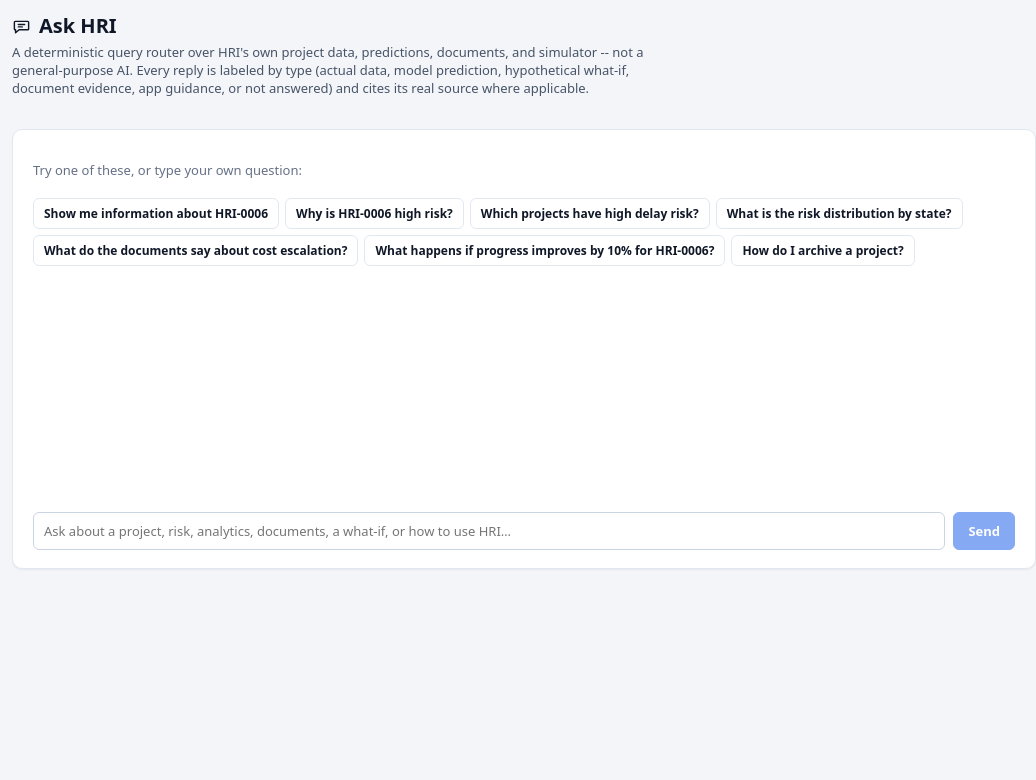
AskHRI page › renders a prediction disclaimer for a model-prediction response
This screenshot has width=1036, height=780.
Replace the text in the field named "Ask HRI" with "Why is HRI-0006 high risk?" at {"x": 489, "y": 531}, box [33,512,945,550]
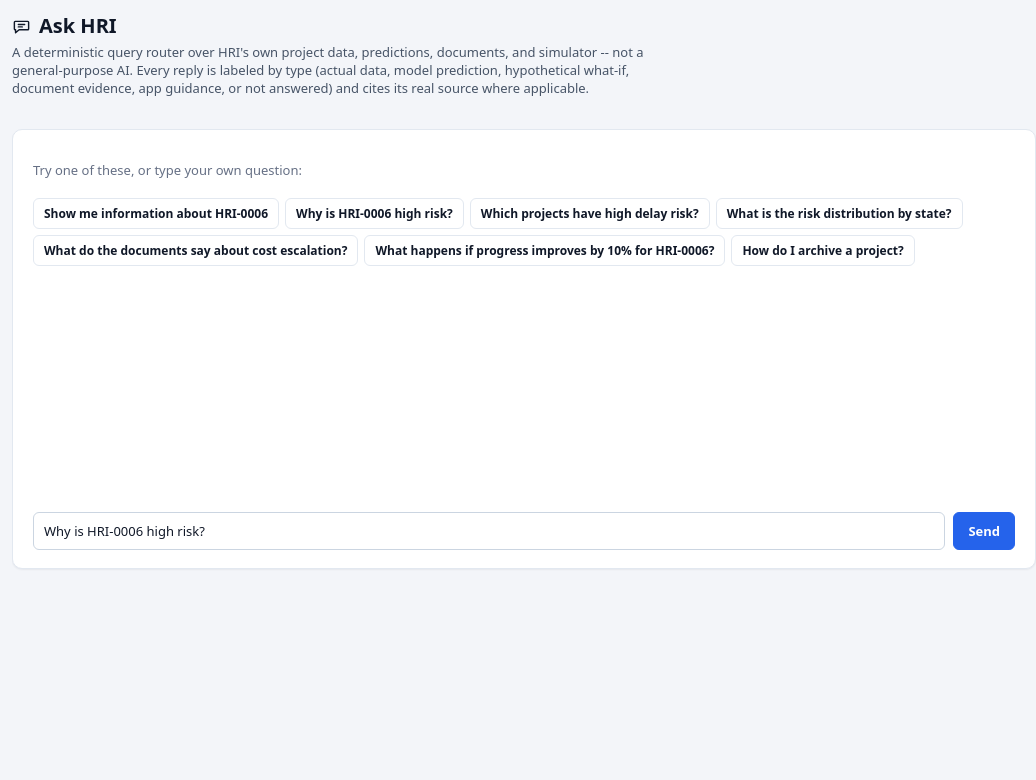
Click the button "Send" at {"x": 984, "y": 531}, box [953,512,1015,550]
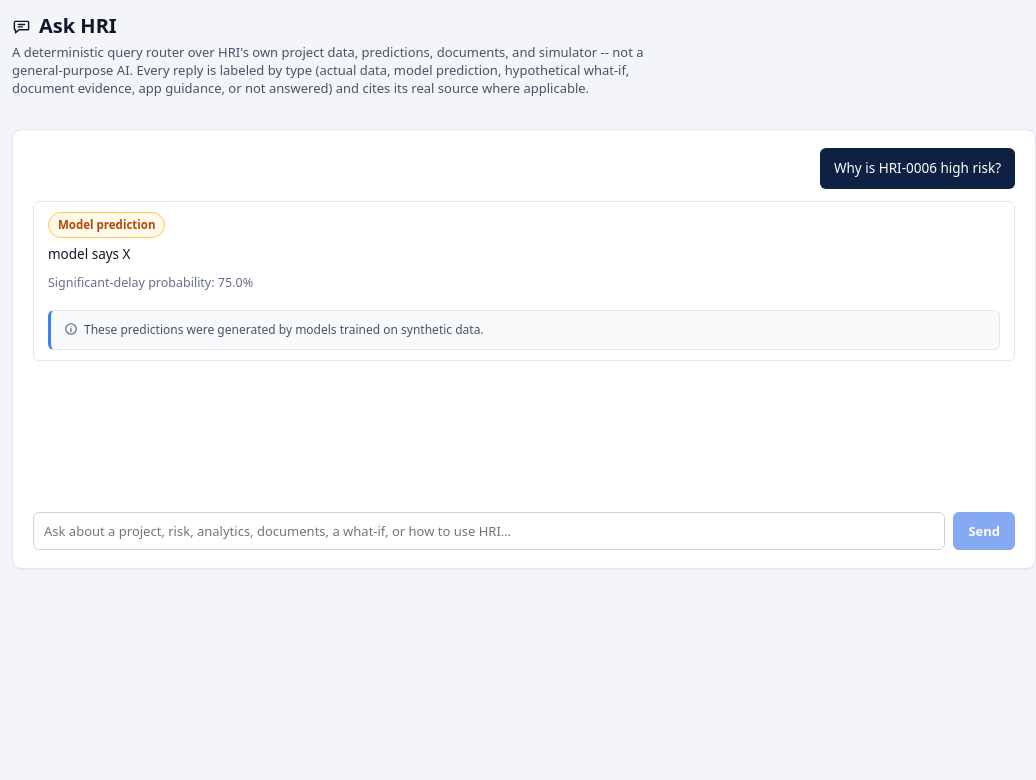
Expected: the text "Model prediction" is shown, [48,212,166,238]
Expected: the text "generated by models trained on synthetic data" is shown, [84,321,484,338]
